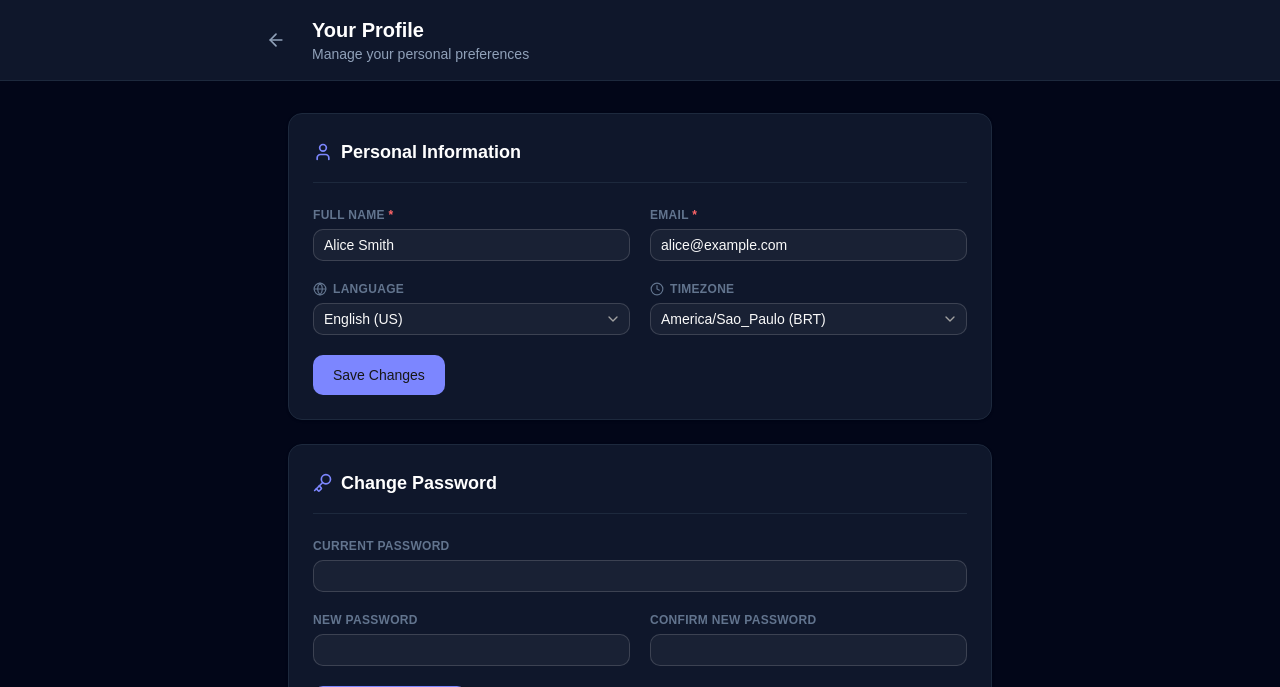
Test case: ProfileRoute — save profile › falls back to "Save failed" when error has no message
Click the button "Save Changes" at (379, 375), box [313,355,445,395]
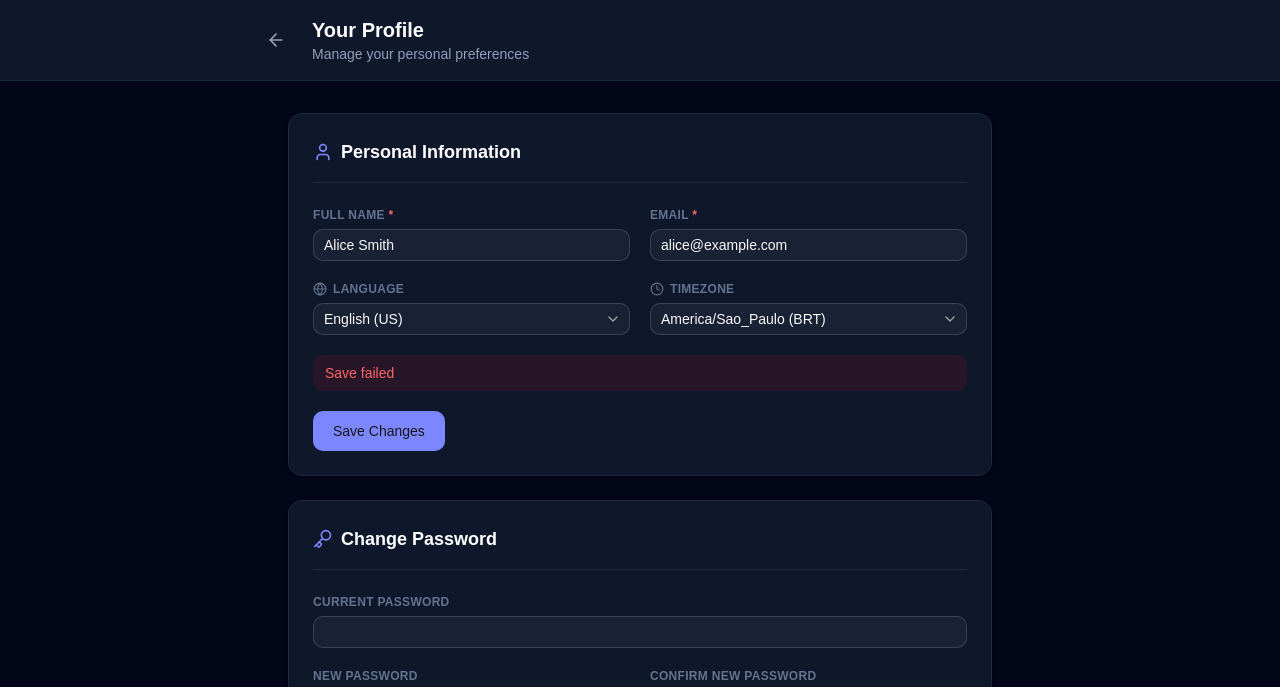
Expected: the message reads "Save failed", [325,365,394,381]
